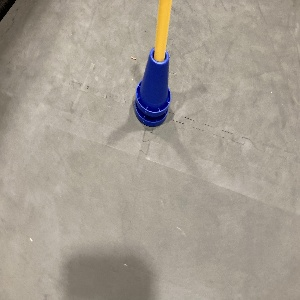Blue_2: (131, 43, 171, 125)
